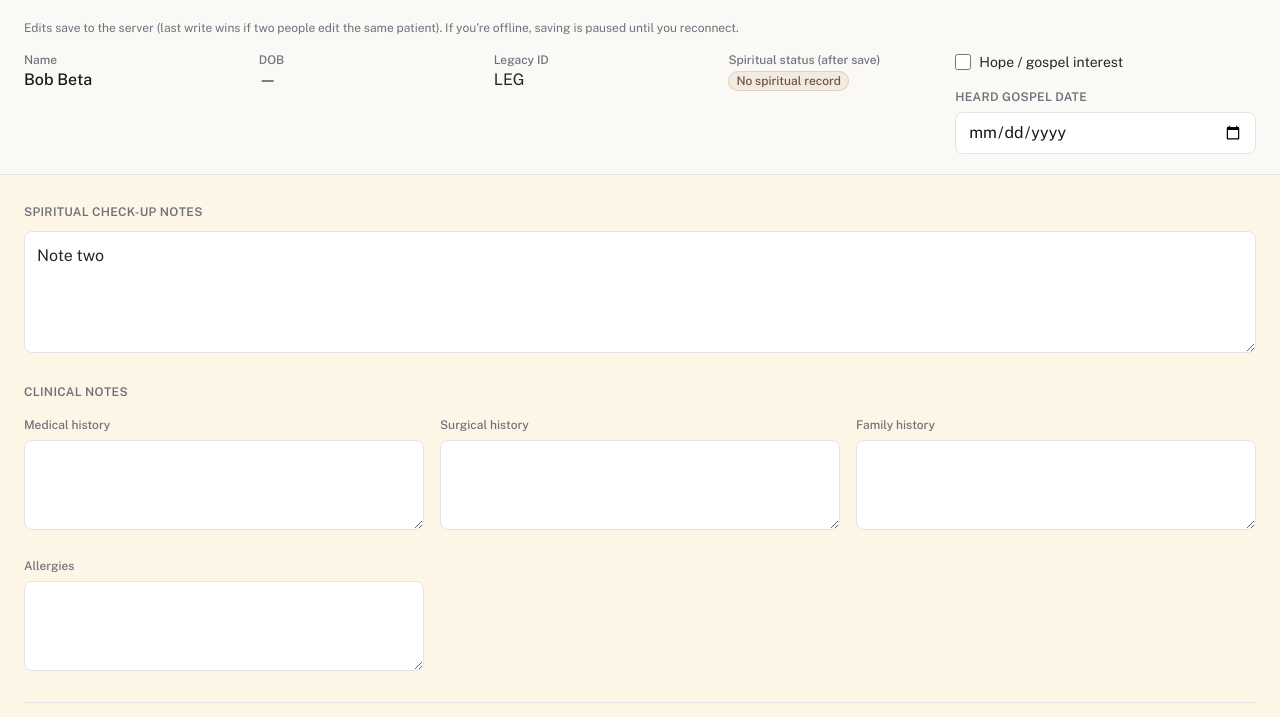
PatientChart › does not PATCH when offline and shows offline save error
Replace the text in the text box labelled "Spiritual check-up notes" with "Offline edit". click: (640, 292)
box: [24,231,1256,353]
(page scrolled)
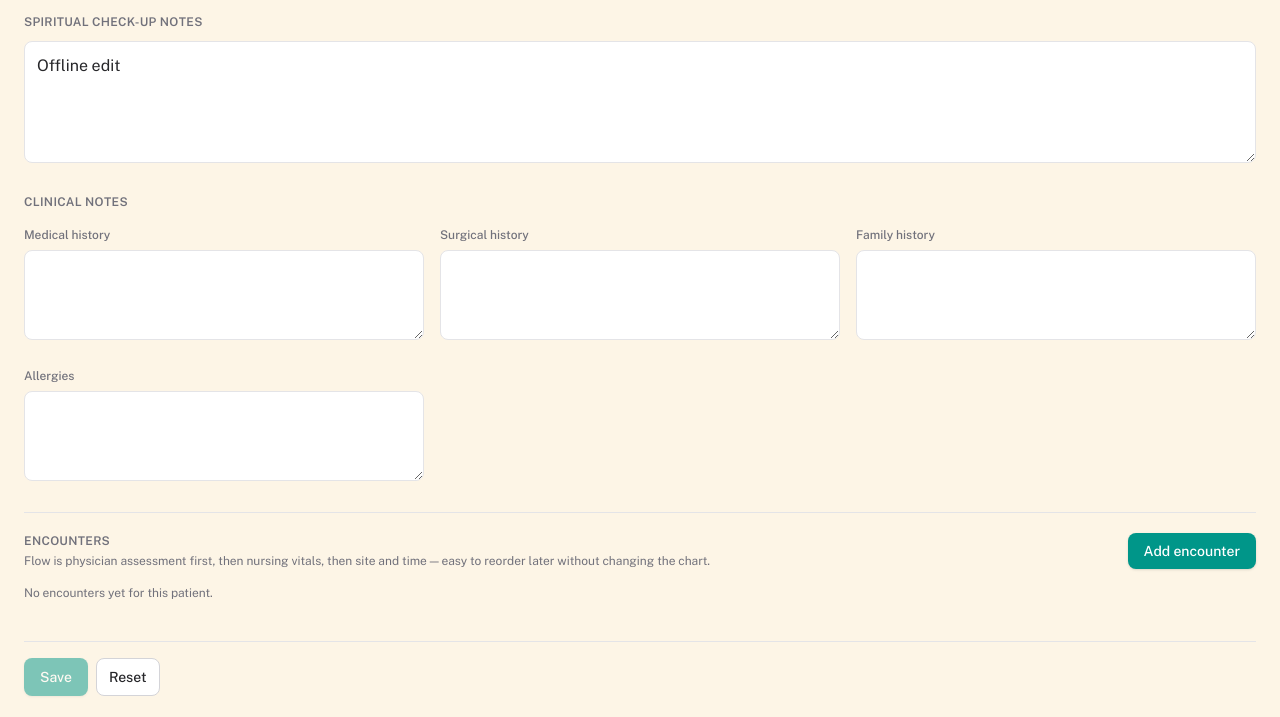
Click the button "Save". click: (56, 677)
box: [24,658,88,696]
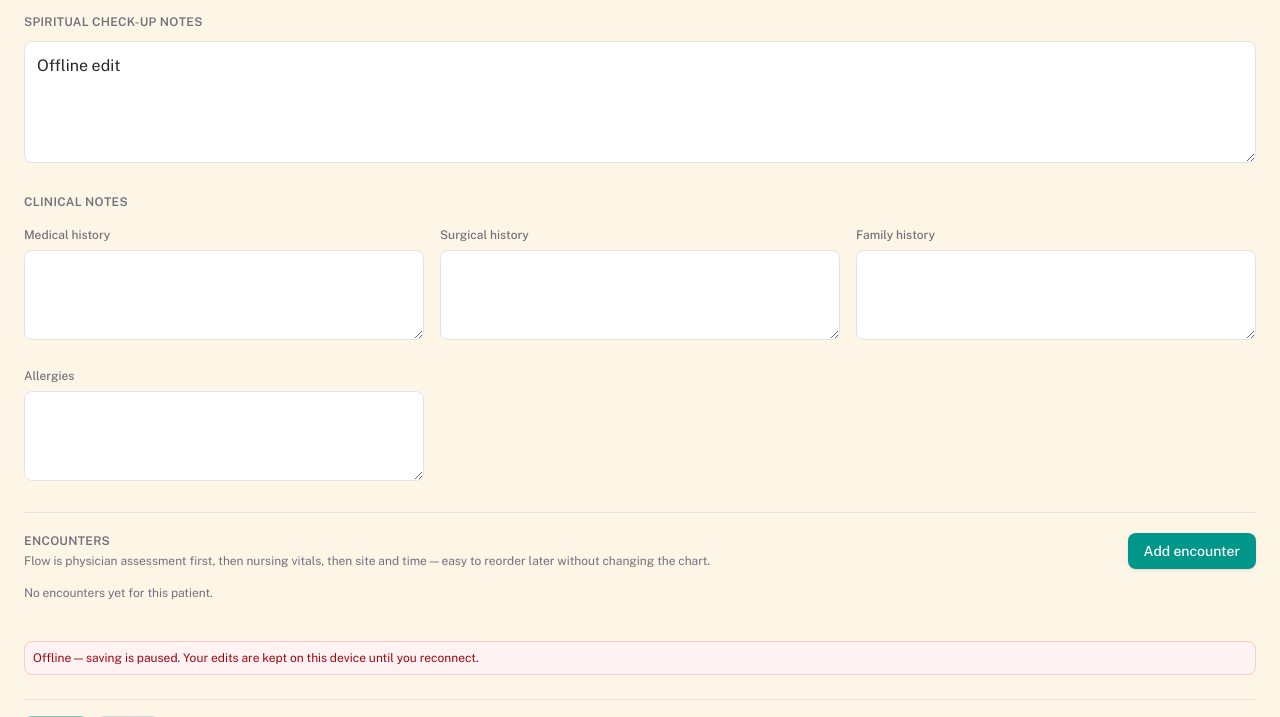
Check: the text "Offline — saving is paused. Your edits are kept on this device until you reconnect." is shown, box [33,651,479,665]
